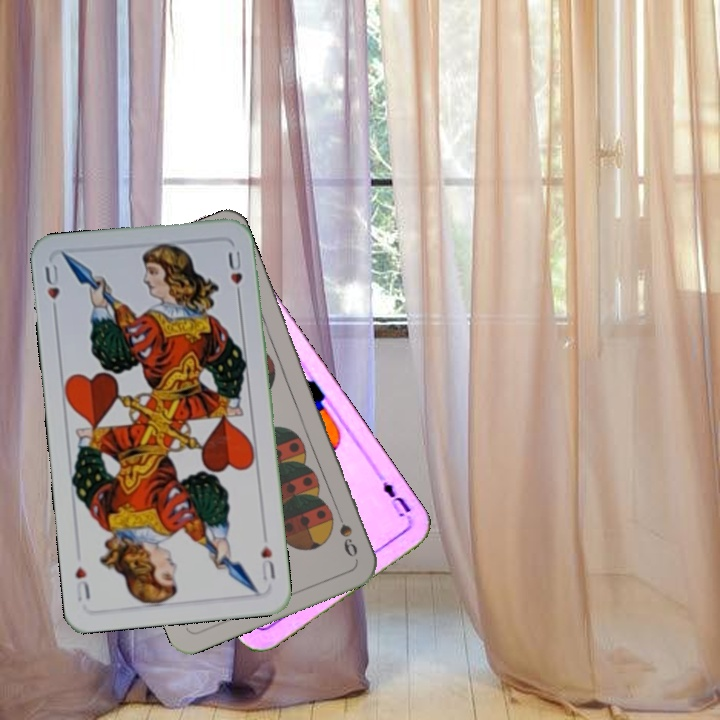EU: (373, 472, 415, 523)
HU: (41, 261, 62, 318), (257, 542, 278, 583)
S9: (331, 504, 360, 560)
